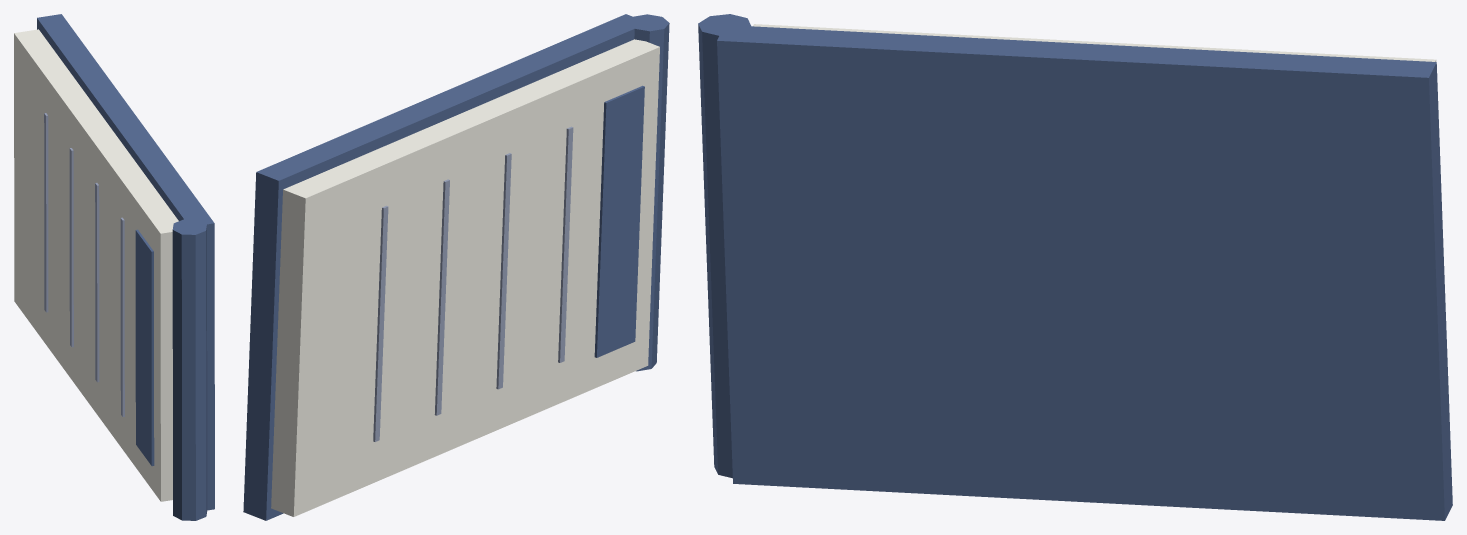
The model's file is TicketBook.glb.
3 renders of one model, left to right at view 1: azimuth 30°, elevation 25°; view 2: azimuth 150°, elevation 25°; view 3: azimuth 270°, elevation 25°, orthographic. The views are drawn at different scales.
Visible parts, largest first — view 1: Ticket_Pages, Ticket_Spine, Ticket_Cover, Ticket_Header, Ticket_Line.003, Ticket_Line.001, Ticket_Line, Ticket_Line.002; view 2: Ticket_Pages, Ticket_Cover, Ticket_Header, Ticket_Spine, Ticket_Line, Ticket_Line.001, Ticket_Line.003, Ticket_Line.002; view 3: Ticket_Cover, Ticket_Spine, Ticket_Pages.
Part boxes in pixels (box(x1,y1,x2,y2)): Ticket_Pages: box(14, 29, 178, 501); Ticket_Spine: box(172, 219, 207, 520); Ticket_Cover: box(37, 14, 214, 510); Ticket_Header: box(135, 229, 154, 466); Ticket_Line.003: box(44, 113, 48, 312); Ticket_Line.001: box(95, 183, 99, 382); Ticket_Line: box(120, 217, 124, 416); Ticket_Line.002: box(69, 148, 73, 347); Ticket_Pages: box(271, 39, 659, 516); Ticket_Cover: box(243, 14, 648, 520); Ticket_Header: box(594, 85, 644, 357); Ticket_Spine: box(628, 14, 669, 371); Ticket_Line: box(558, 126, 573, 362); Ticket_Line.001: box(496, 153, 511, 389); Ticket_Line.003: box(373, 205, 388, 441); Ticket_Line.002: box(434, 179, 449, 415); Ticket_Cover: box(717, 25, 1452, 520); Ticket_Spine: box(698, 14, 751, 478); Ticket_Pages: box(753, 24, 1436, 61).
Bounding box in the file's own units: 0.0751 × 0.1692 × 0.2491.
